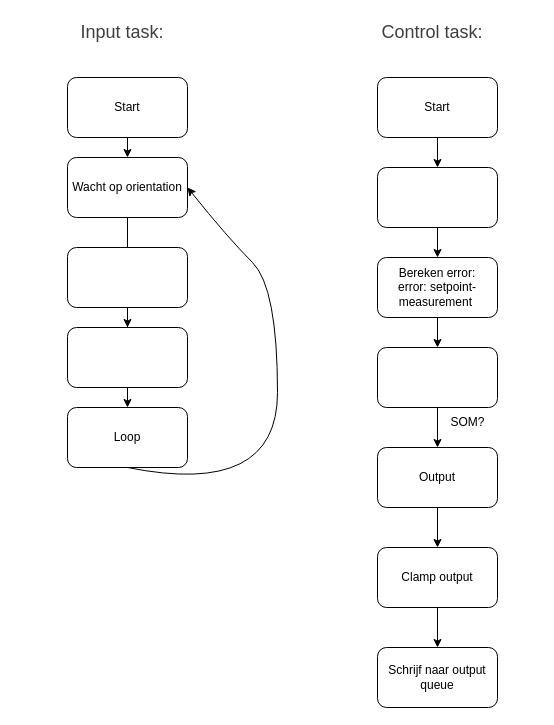
This 554x725 diagram has some shape labels left out. Here are the shapes that lost their labels. From the top down, the box of each, then its label:
(376, 166, 498, 228): PID output?
(66, 246, 188, 308): Read pitch and roll
(66, 326, 188, 388): Schrijf naar PID input queue
(376, 346, 498, 408): P-term I term D term
